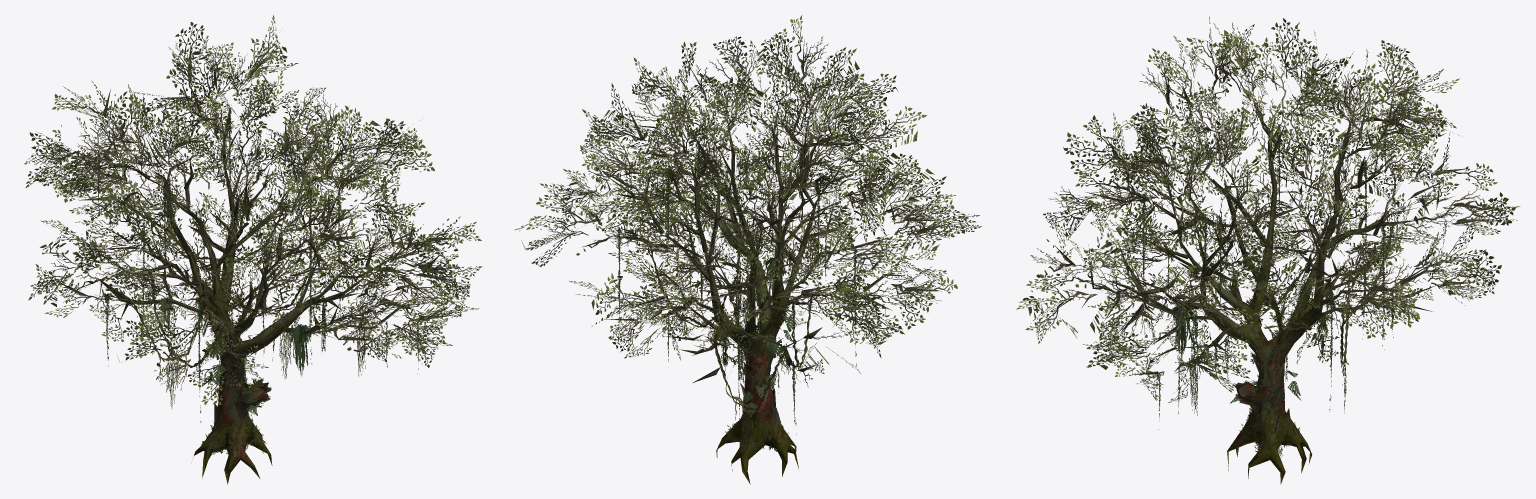
File: realjungletree.glb
3 views of the same model, side by side, from view 1: azimuth 30°, elevation 25°; view 2: azimuth 150°, elevation 25°; view 3: azimuth 270°, elevation 25° (orthographic). The views are drawn at different scales.
Visible parts, largest first — view 1: TreeGen_ClusterB_0, TreeGen_BarkB_0, TreeGen_ClusterB2_0, TreeGen_VinesB_0, TreeGen_CortexB_0; view 2: TreeGen_ClusterB_0, TreeGen_BarkB_0, TreeGen_ClusterB2_0, TreeGen_VinesB_0, TreeGen_CortexB_0; view 3: TreeGen_ClusterB_0, TreeGen_BarkB_0, TreeGen_ClusterB2_0, TreeGen_VinesB_0, TreeGen_CortexB_0.
Boxes of the visible parts, box(x1,y1,x2,y2) form: TreeGen_ClusterB_0: box(24, 15, 482, 404); TreeGen_BarkB_0: box(49, 43, 456, 484); TreeGen_ClusterB2_0: box(34, 42, 457, 390); TreeGen_VinesB_0: box(97, 108, 418, 455); TreeGen_CortexB_0: box(214, 290, 271, 431); TreeGen_ClusterB_0: box(514, 15, 981, 377); TreeGen_BarkB_0: box(552, 39, 951, 484); TreeGen_ClusterB2_0: box(547, 36, 956, 386); TreeGen_VinesB_0: box(617, 142, 857, 458); TreeGen_CortexB_0: box(711, 317, 781, 434); TreeGen_ClusterB_0: box(1016, 17, 1520, 402); TreeGen_BarkB_0: box(1050, 46, 1489, 484); TreeGen_ClusterB2_0: box(1048, 42, 1496, 399); TreeGen_VinesB_0: box(1141, 118, 1404, 460); TreeGen_CortexB_0: box(1230, 312, 1323, 427).
Size of the model in its own units: 12.13 by 13 by 13.73.
Materials: 6 (6 with a texture image).
